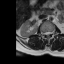CCS_normal: (46, 29, 48, 38)
LFS_normal: (50, 29, 52, 36)
LLS_normal: (48, 29, 50, 36)
RFS_normal: (43, 30, 45, 36)
RLS_normal: (45, 29, 46, 36)
